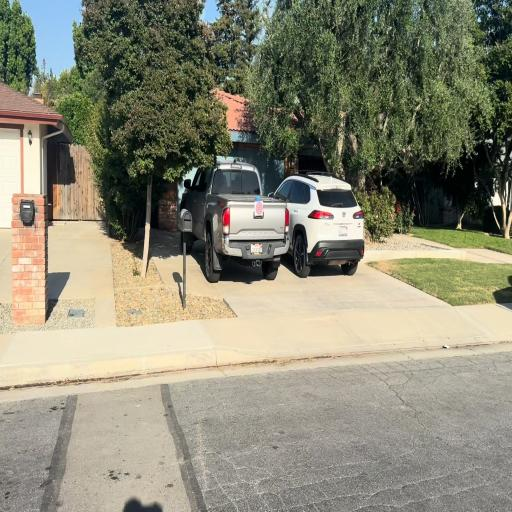bullseye: (255, 201, 263, 216)
